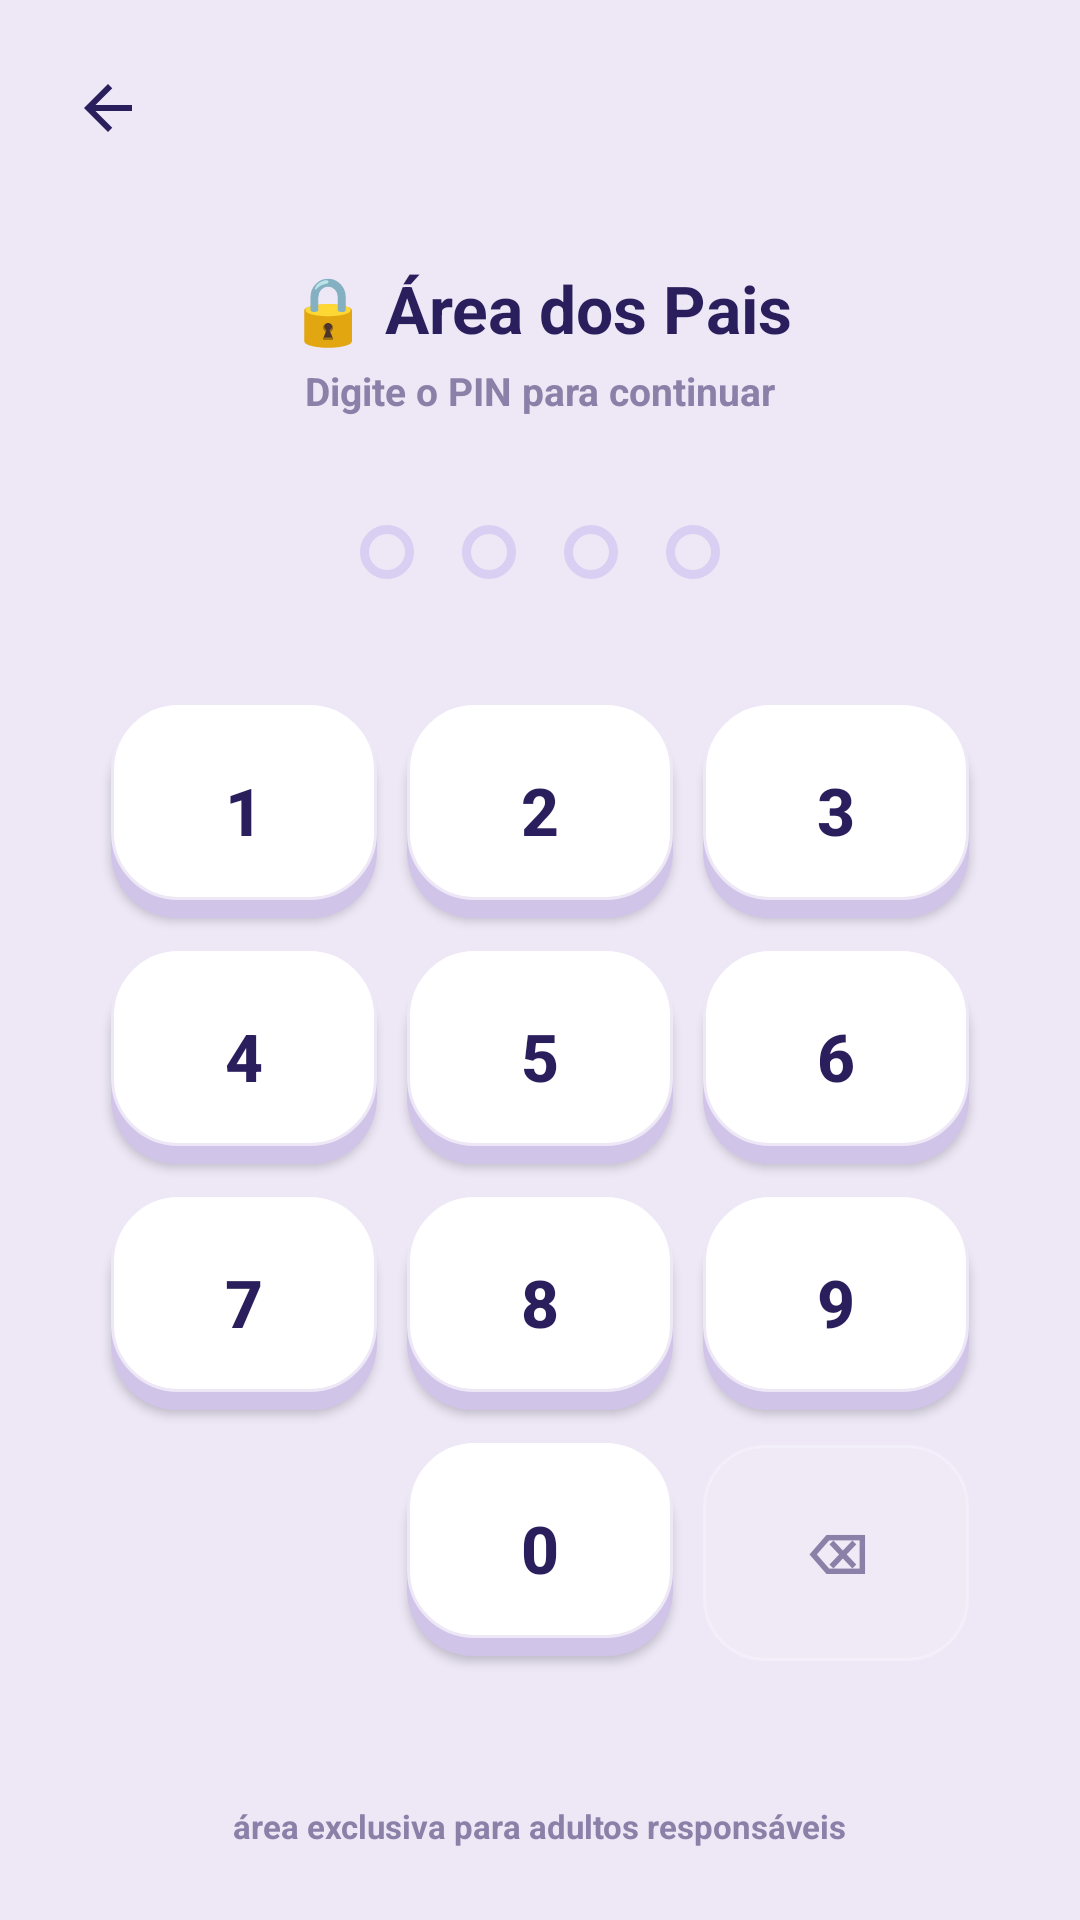

Icon bounding boxes for this 1080px×1920px phone screenshot, format [x1, y1, x2, y2]:
Voltar: [84, 84, 132, 132]
